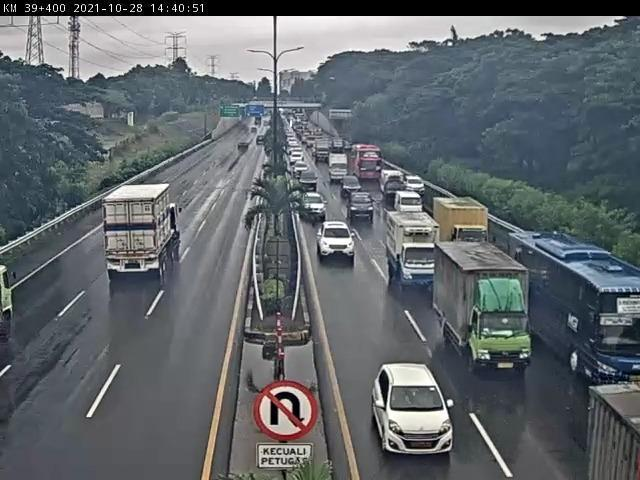bus: (509, 233, 640, 391)
car: (374, 364, 457, 455), (317, 222, 358, 260), (348, 191, 376, 219), (300, 191, 327, 220), (395, 190, 424, 213)
truck: (435, 240, 535, 370), (104, 183, 182, 280), (385, 211, 443, 289), (435, 198, 491, 244)
